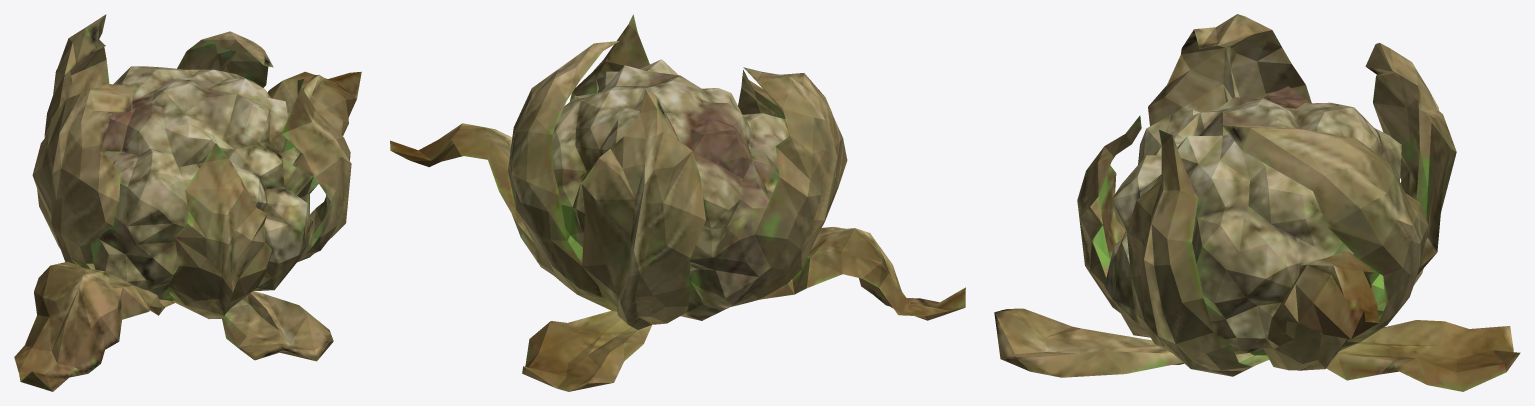
File: P_Huacai_04.obj
3 views of the same model, side by side, from view 1: azimuth 30°, elevation 25°; view 2: azimuth 150°, elevation 25°; view 3: azimuth 270°, elevation 25° (orthographic). The views are drawn at different scales.
Size of the model in its own units: 0.7252 by 0.3996 by 0.6281.
1 material, 1 textured.
